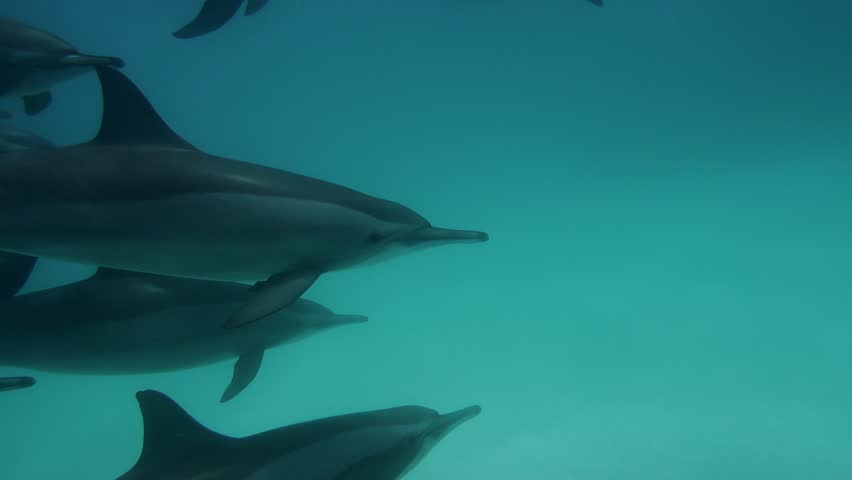dolphin: (1, 55, 517, 338), (102, 386, 511, 480)
